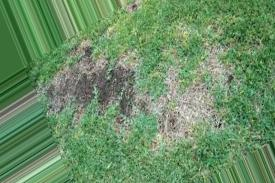patch: (61, 70, 134, 101), (169, 93, 209, 125), (210, 51, 232, 84)
